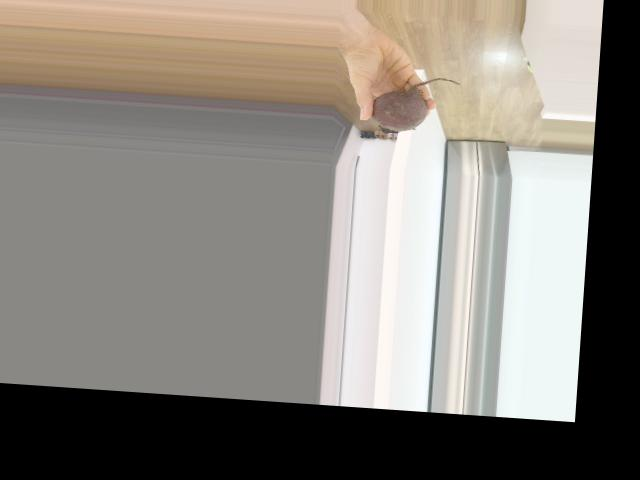beet: (371, 73, 461, 137)
